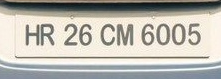0: (171, 23, 186, 46), (156, 23, 170, 46)
2: (64, 23, 78, 47)
5: (187, 21, 202, 46)
6: (78, 23, 92, 47), (141, 23, 154, 47)
C: (100, 23, 115, 46)
H: (24, 23, 40, 46)
M: (116, 23, 134, 47)
R: (39, 22, 55, 46)
